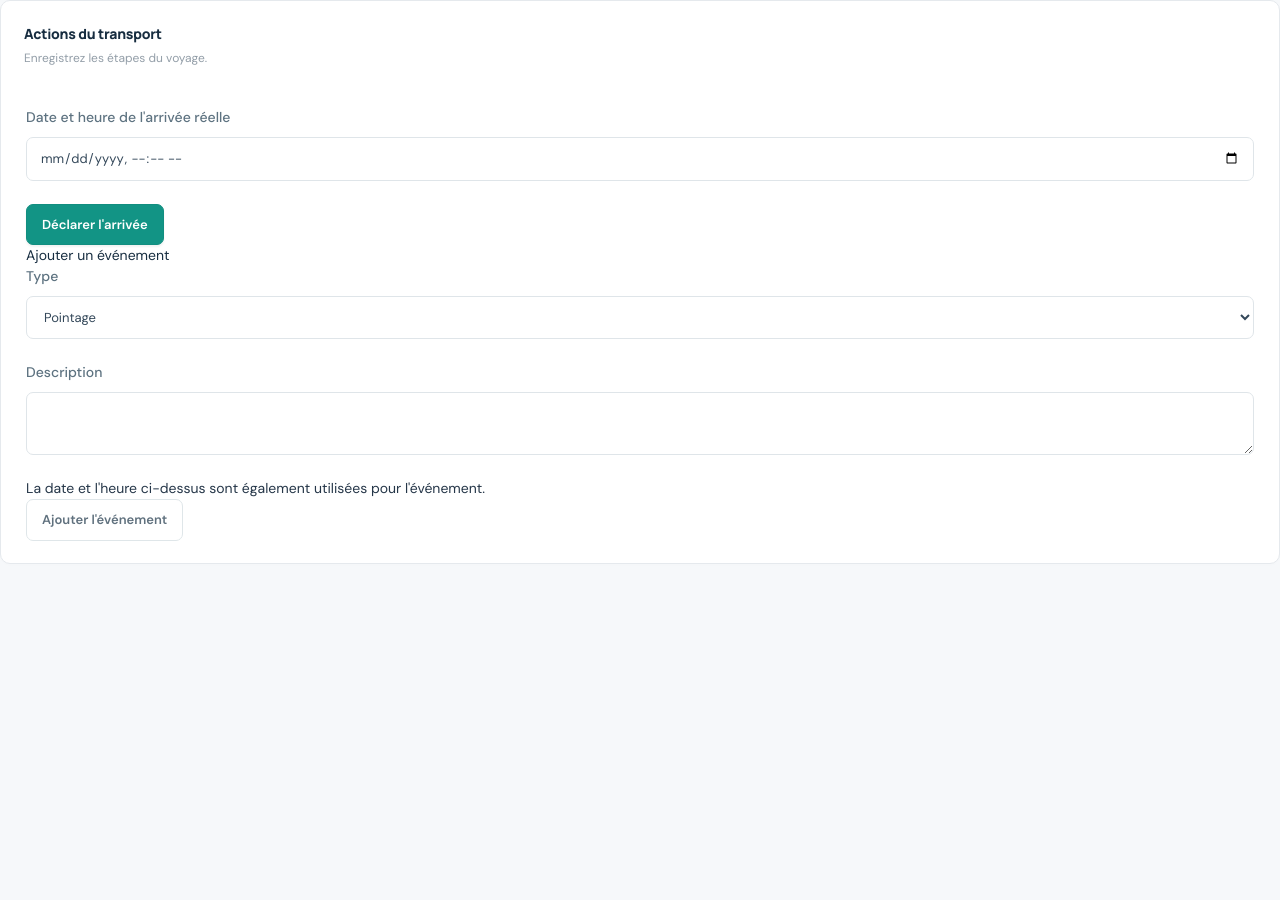
it: exige une description pour un événement de suivi
Click the button "Ajouter l'événement".
click(105, 520)  # box [26, 499, 183, 540]
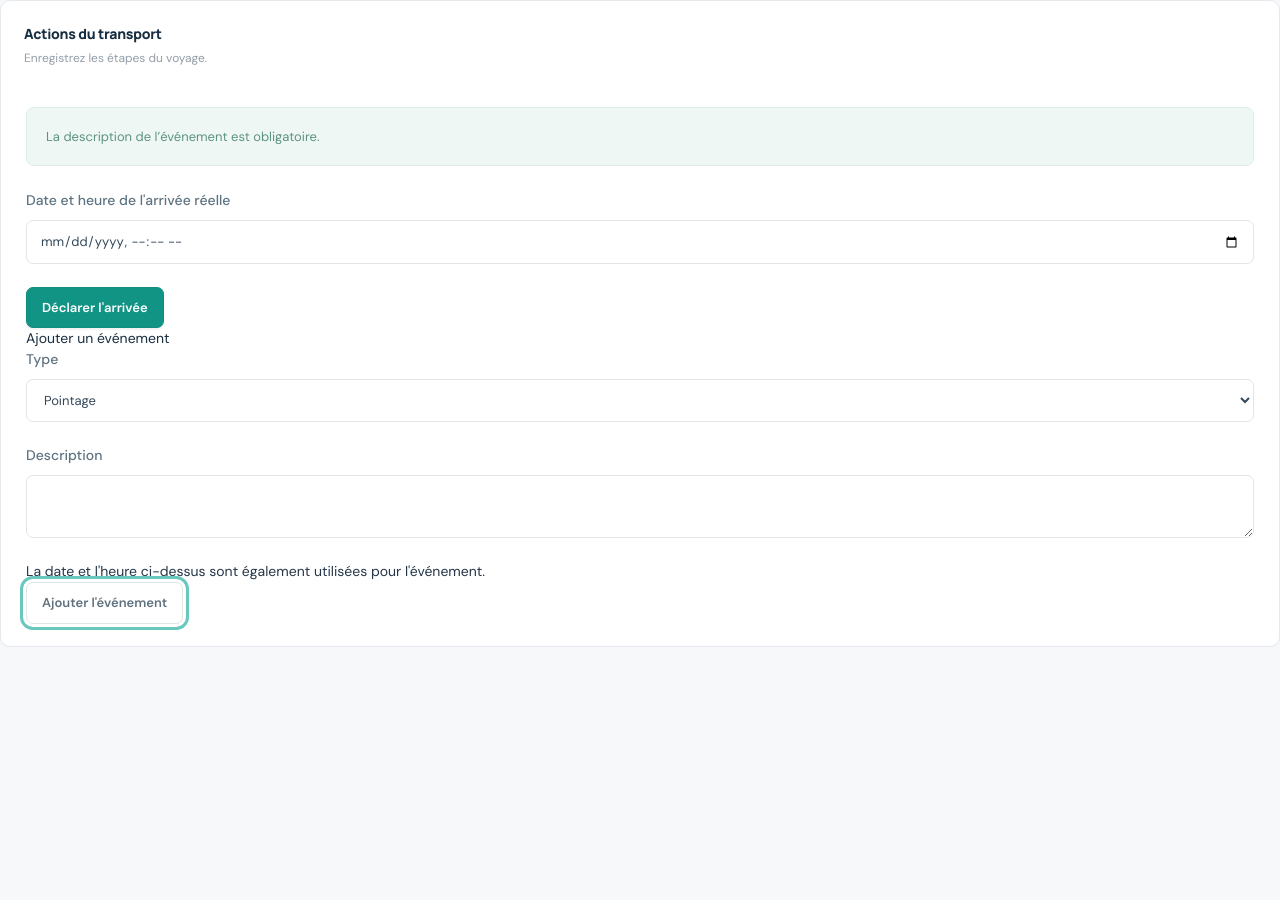
Check: the message shows "La description de l’événement est obligatoire", box [46, 128, 320, 145]
